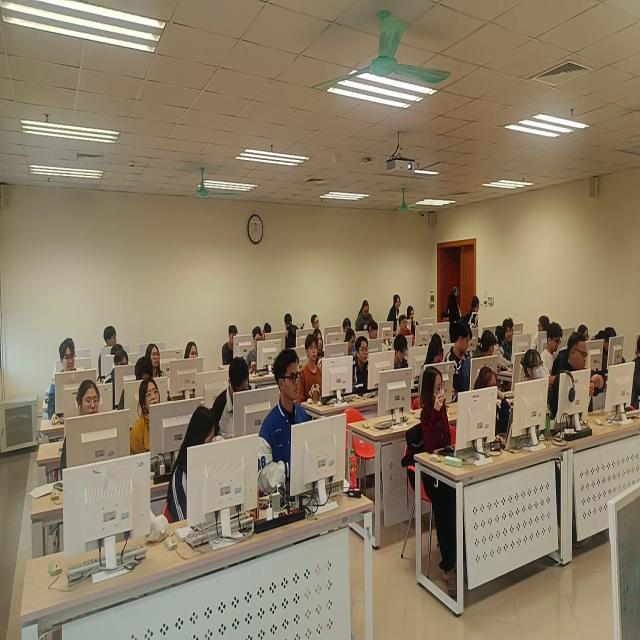raise_head: (256, 351, 318, 498), (130, 380, 175, 462), (524, 352, 556, 446), (299, 335, 330, 412), (349, 339, 380, 398), (182, 342, 204, 382), (148, 343, 169, 381), (397, 316, 418, 343), (313, 314, 323, 332)
stand: (497, 317, 549, 372), (463, 295, 483, 348), (387, 295, 403, 338), (357, 301, 374, 337), (447, 291, 463, 328)
using_computer: (422, 365, 472, 491), (557, 337, 617, 434), (61, 385, 119, 475), (471, 368, 522, 450), (212, 357, 255, 452), (49, 339, 88, 427), (121, 358, 152, 416), (246, 327, 273, 382), (597, 326, 625, 379), (103, 352, 132, 402), (543, 327, 571, 373), (393, 335, 418, 384), (422, 336, 447, 383), (221, 325, 246, 368), (315, 331, 335, 363), (345, 331, 359, 359)
